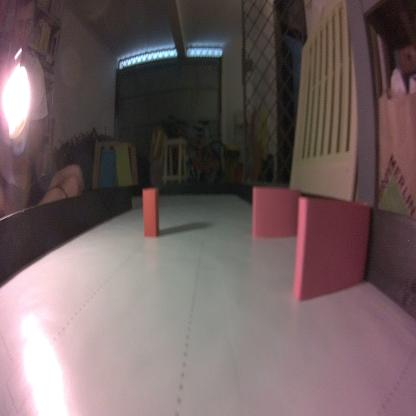magenta: (290, 196, 373, 306), (252, 184, 302, 240)
red: (141, 186, 159, 236)
